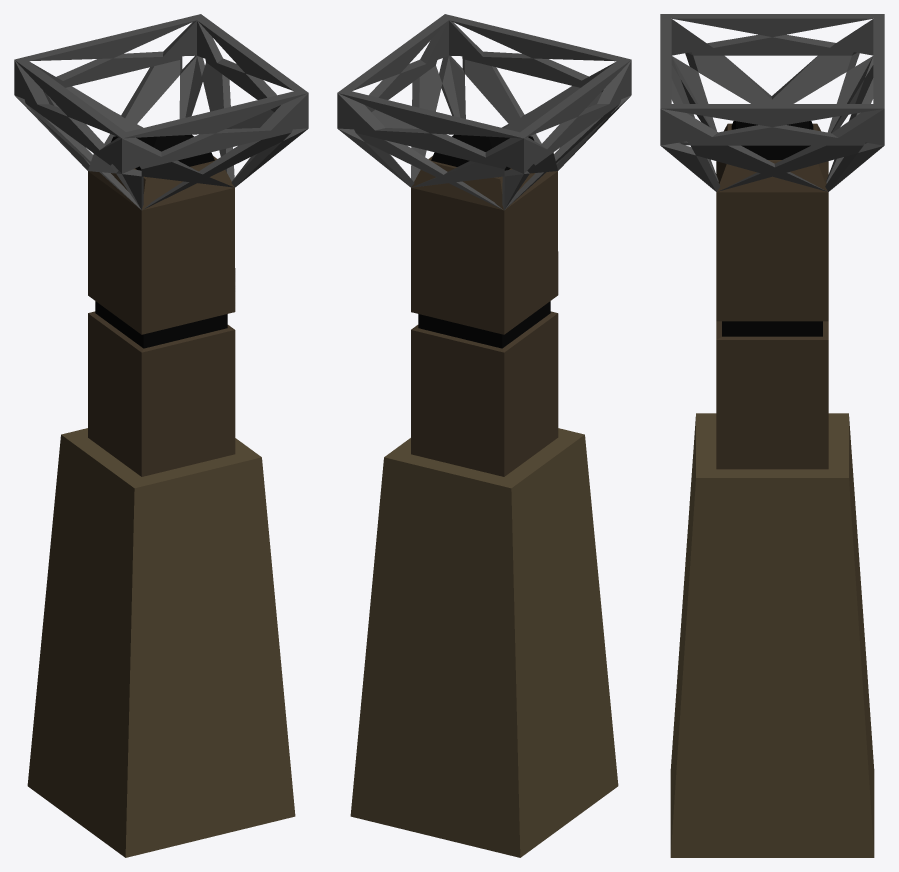
File: Brazier.fbx
The picture shows the model from 3 angles, left to right: view 1: azimuth 30°, elevation 25°; view 2: azimuth 150°, elevation 25°; view 3: azimuth 270°, elevation 25°; orthographic projection. The views are drawn at different scales.
Visible parts, largest first — view 1: Brazier; view 2: Brazier; view 3: Brazier.
Boxes of the visible parts, x1,y1,x2,y2 form: Brazier: [14, 14, 308, 857]; Brazier: [337, 14, 631, 857]; Brazier: [660, 14, 884, 857].
Bounding box in the file's own units: 55 × 204 × 55.
